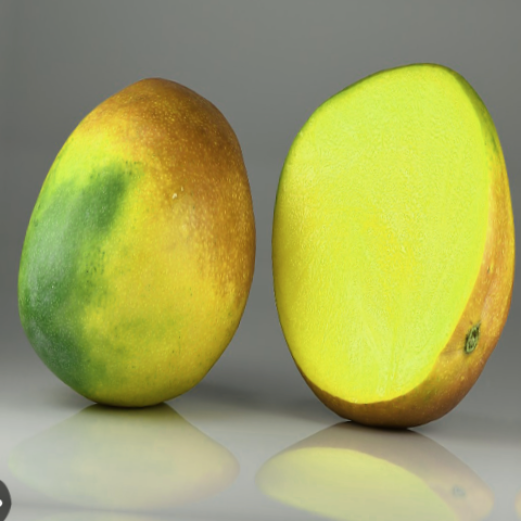mango: (252, 35, 521, 475), (2, 63, 273, 452)
